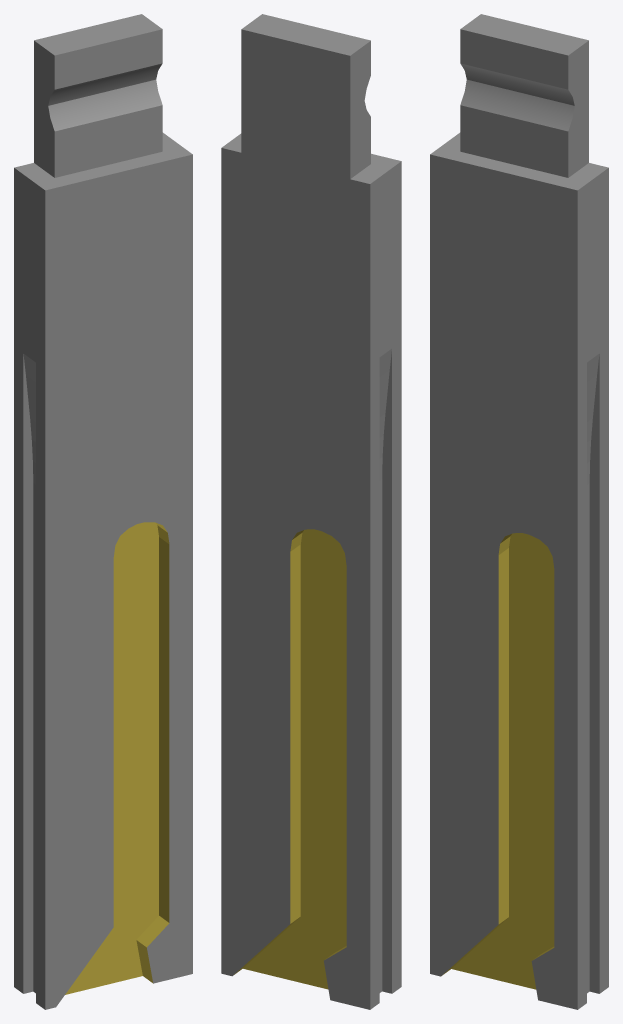
3 views of the same model, side by side, from view 1: azimuth 30°, elevation 25°; view 2: azimuth 150°, elevation 25°; view 3: azimuth 330°, elevation 25° (orthographic).
Visible parts, largest first — view 1: Box002; view 2: Box002; view 3: Box002.
Part boxes in pixels (x1,y1,x2,y2): Box002: (14, 14, 192, 1009); Box002: (221, 14, 401, 1009); Box002: (430, 14, 608, 1009).
Size of the model in its own units: 8.2 by 50 by 3.
